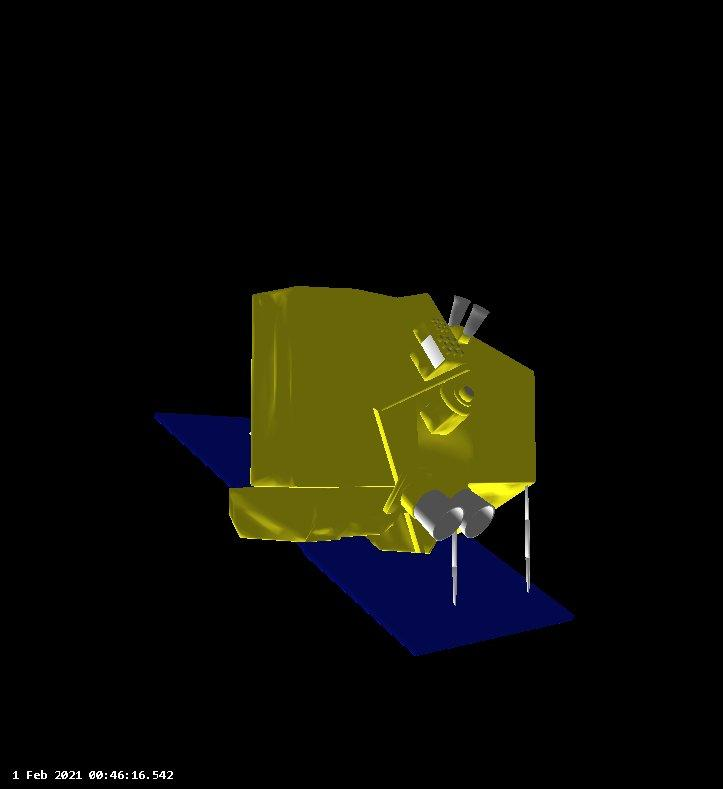body: (227, 280, 533, 557)
solar: (152, 409, 579, 657)
thruster: (415, 486, 464, 538), (451, 485, 498, 538), (466, 297, 492, 339), (447, 292, 472, 332)
